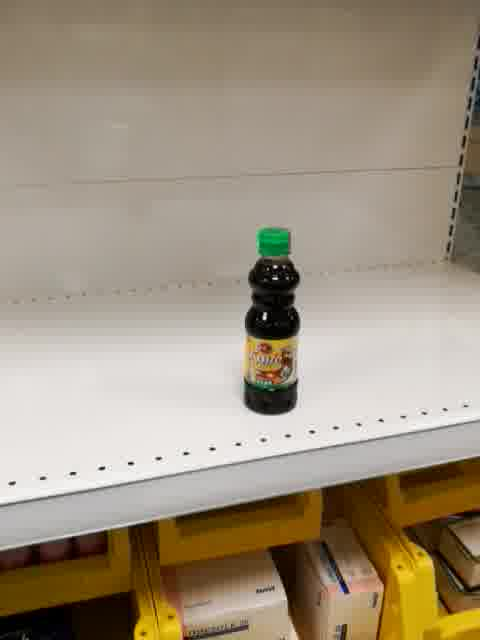cookingoil: (241, 226, 302, 418)
